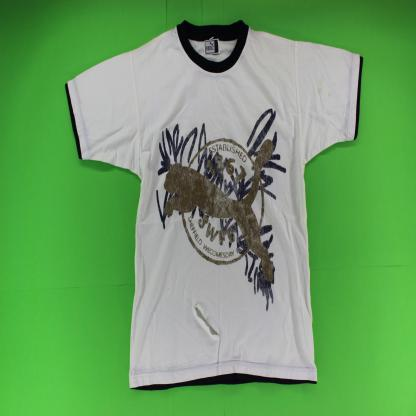hole: (181, 293, 221, 338)
